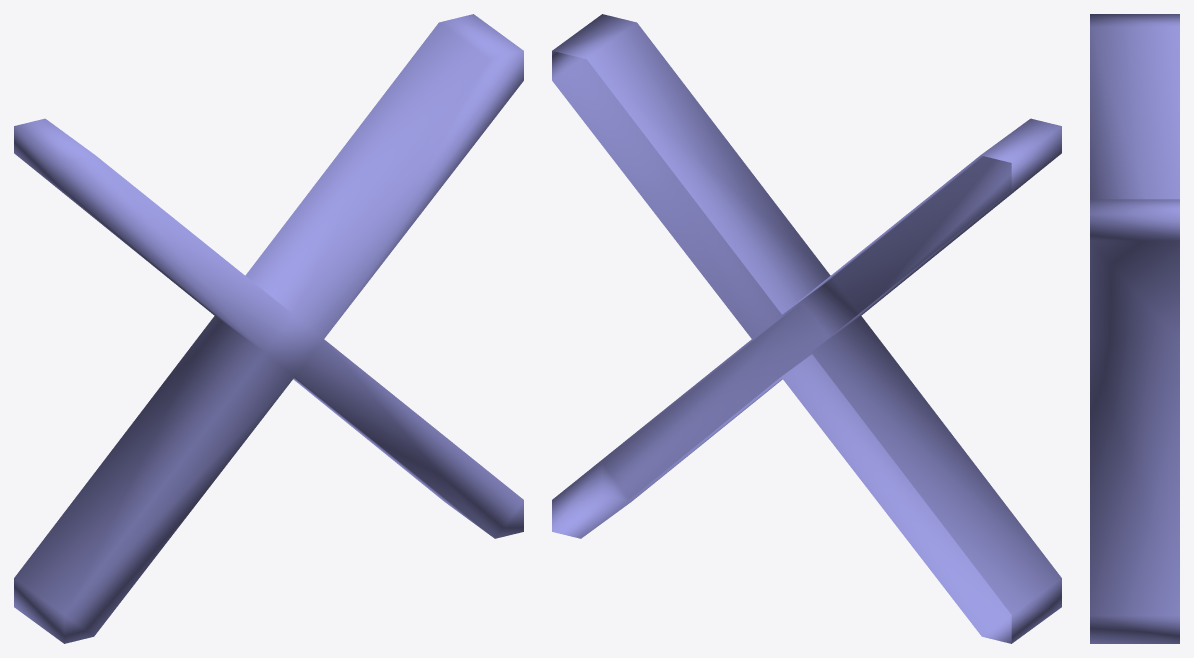
Rendered from exit.obj.
The picture shows the model from 3 angles, left to right: view 1: azimuth 30°, elevation 25°; view 2: azimuth 150°, elevation 25°; view 3: azimuth 270°, elevation 25°; orthographic projection. The views are drawn at different scales.
Visible parts, largest first — view 1: Box001; view 2: Box001; view 3: Box001.
Part boxes in pixels (x1=…): Box001: x1=14, y1=14, x2=523, y2=643; Box001: x1=552, y1=14, x2=1061, y2=643; Box001: x1=1090, y1=14, x2=1179, y2=643.
Size of the model in its own units: 10 by 10 by 1.9.
